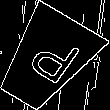P_SW: (14, 29, 79, 91)
